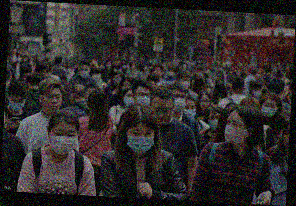with_mask: (47, 127, 77, 157), (124, 126, 154, 155), (223, 118, 248, 148), (170, 92, 187, 114), (133, 91, 152, 110), (7, 97, 25, 114), (260, 102, 277, 120), (207, 113, 221, 133), (182, 104, 198, 120), (178, 77, 192, 91), (122, 92, 134, 107), (78, 67, 91, 78), (251, 86, 262, 98), (121, 82, 131, 94), (90, 71, 101, 81), (112, 75, 121, 87), (27, 57, 35, 66), (15, 54, 22, 64), (167, 69, 175, 77), (21, 55, 28, 63), (142, 64, 148, 72), (106, 61, 112, 69), (66, 66, 72, 74), (217, 65, 223, 72)
without_mask: (40, 91, 63, 114), (151, 104, 174, 127), (199, 97, 211, 113), (152, 68, 162, 78)
